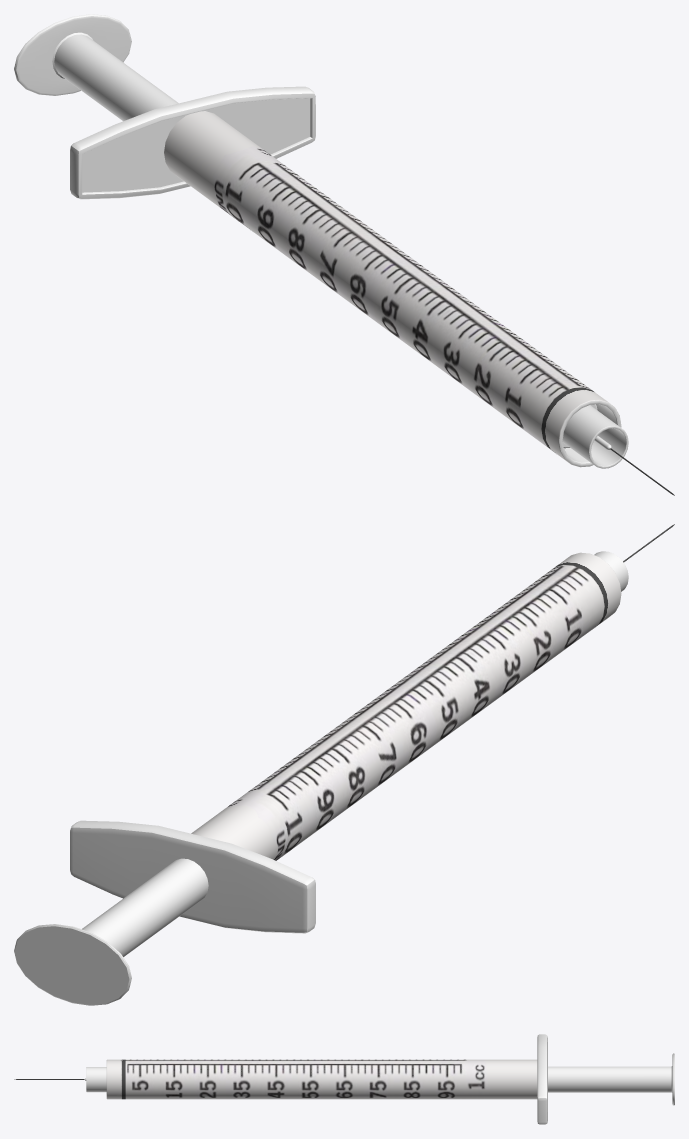
The picture shows the model from 3 angles, top to bottom: view 1: azimuth 30°, elevation 25°; view 2: azimuth 150°, elevation 25°; view 3: azimuth 270°, elevation 25°; orthographic projection. The views are drawn at different scales.
Parts seen in each view (by area): view 1: syringe_v1_combined_mesh_result; view 2: syringe_v1_combined_mesh_result; view 3: syringe_v1_combined_mesh_result.
Boxes of the visible parts, box(x1,y1,x2,y2) form: syringe_v1_combined_mesh_result: box(14, 14, 674, 495); syringe_v1_combined_mesh_result: box(14, 524, 674, 1005); syringe_v1_combined_mesh_result: box(14, 1034, 674, 1124).
Size of the model in its own units: 0.3933 by 0.1265 by 1.71.
1 material, 1 textured.
